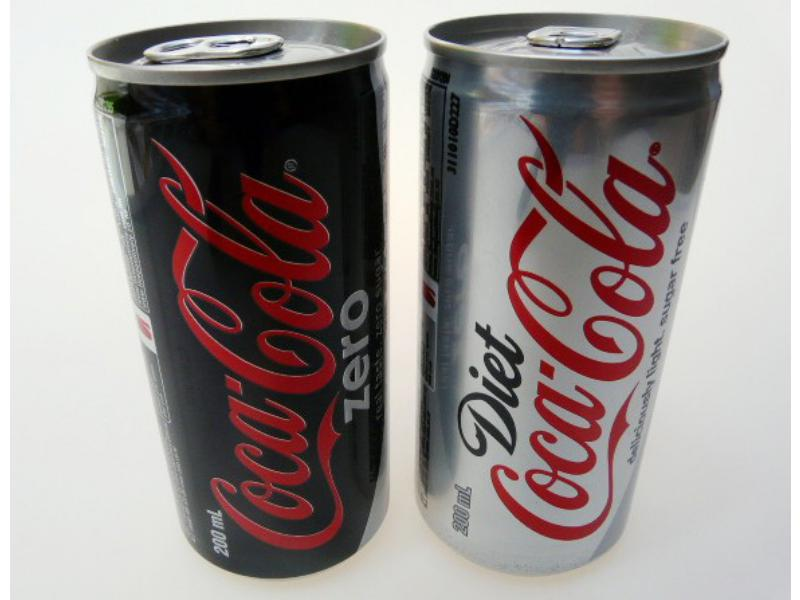can: (79, 8, 400, 588), (408, 5, 731, 578)
